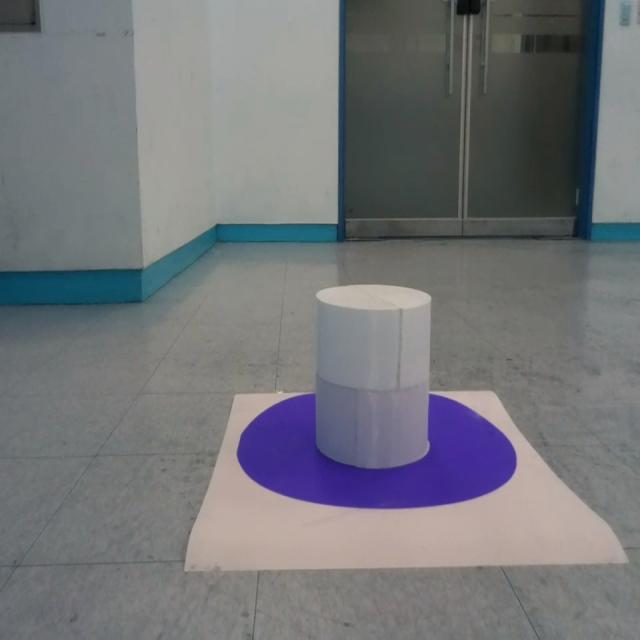cylinder: (314, 284, 433, 470)
